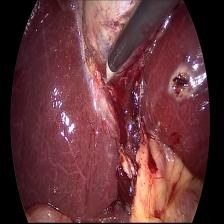Hook: (98, 51, 117, 94)
